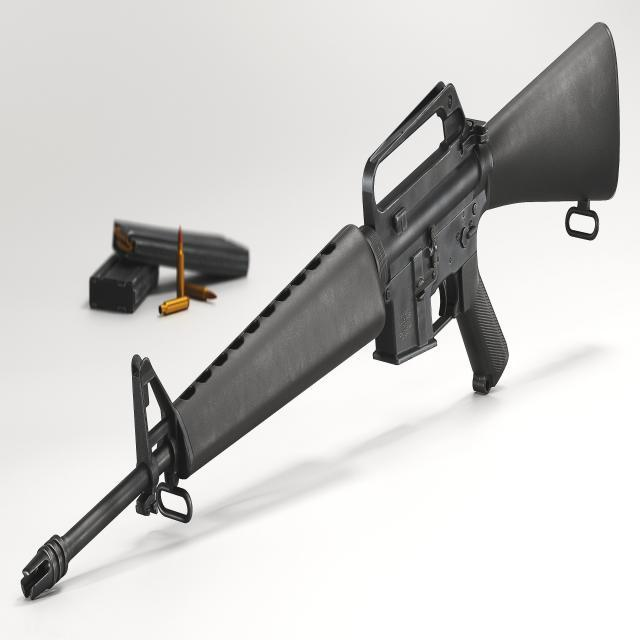m16: (11, 19, 622, 616)
